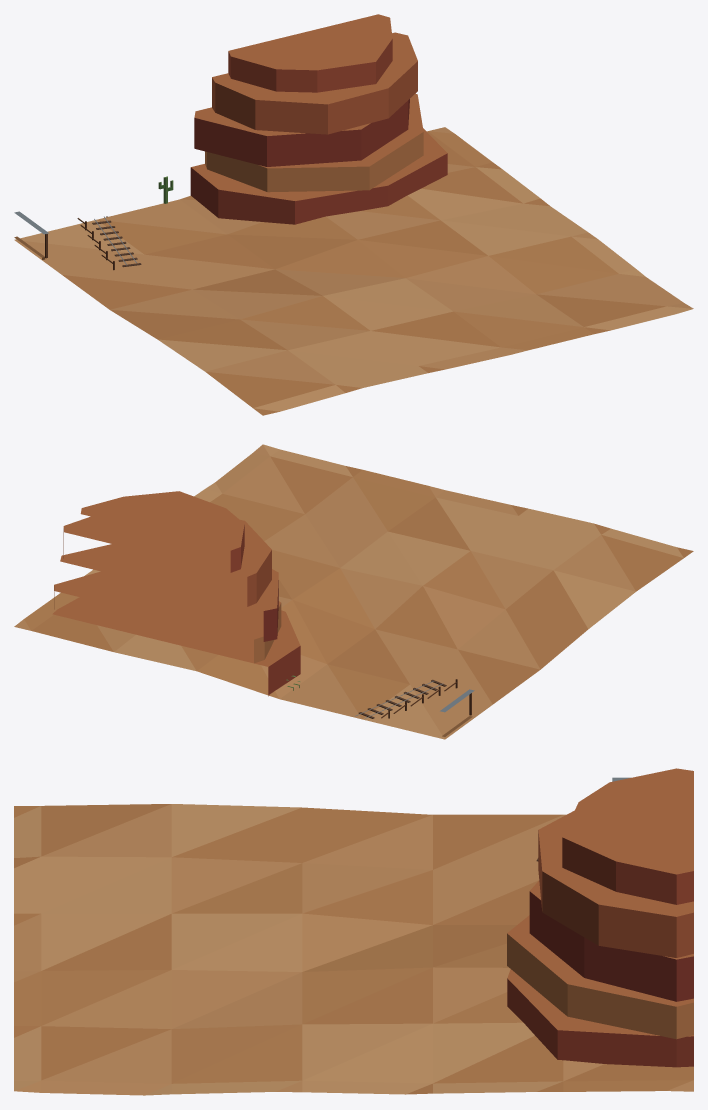
3 renders of one model, top to bottom at view 1: azimuth 30°, elevation 25°; view 2: azimuth 150°, elevation 25°; view 3: azimuth 270°, elevation 25°, orthographic. The views are drawn at different scales.
Visible parts, largest first — view 1: baked; view 2: baked; view 3: baked.
Part boxes in pixels (box(x1,y1,x2,y2)): baked: box(14, 14, 693, 415); baked: box(14, 444, 693, 739); baked: box(14, 768, 693, 1095).
Bounding box in the file's own units: 62.5 × 18.94 × 62.5.
